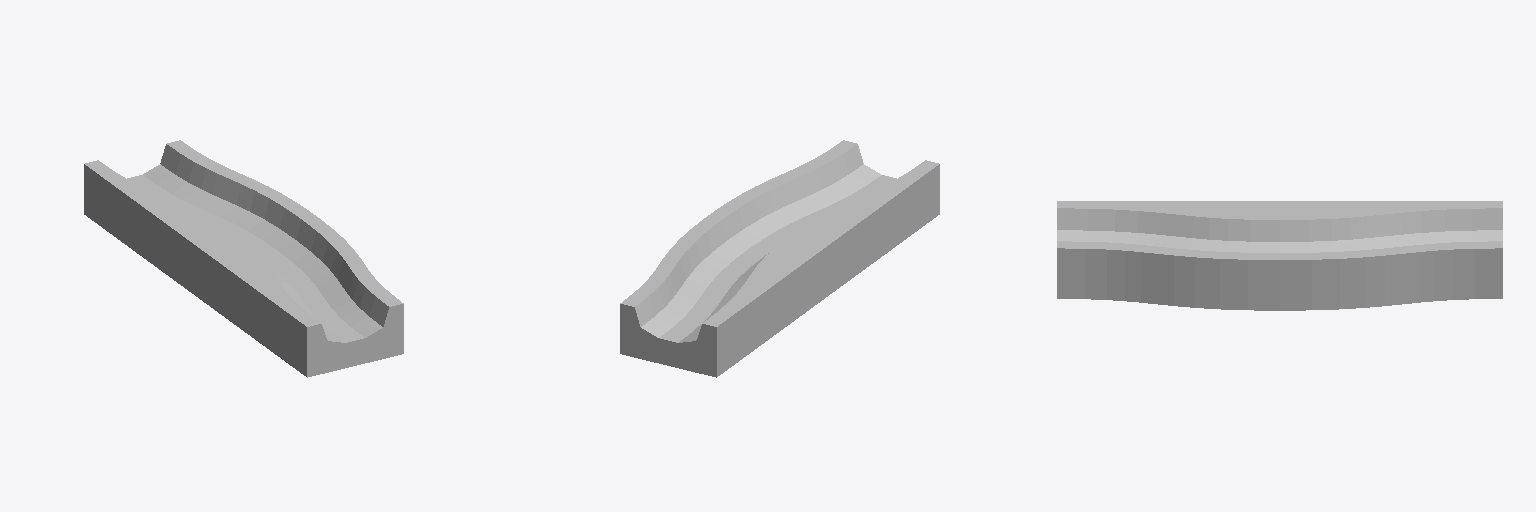
File: wave-solid-a.obj
3 views of the same model, side by side, from view 1: azimuth 30°, elevation 25°; view 2: azimuth 150°, elevation 25°; view 3: azimuth 270°, elevation 25° (orthographic).
Visible parts, largest first — view 1: wave-solid-a; view 2: wave-solid-a; view 3: wave-solid-a.
Boxes of the visible parts, <box> form: wave-solid-a: <box>84,140,403,377</box>; wave-solid-a: <box>620,140,939,377</box>; wave-solid-a: <box>1057,201,1502,310</box>.
Size of the model in its own units: 1.25 by 0.5 by 4.